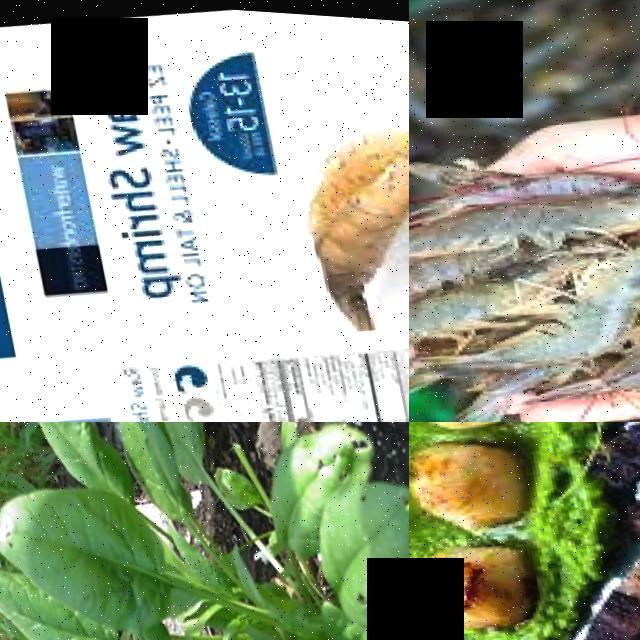sea scallops: (409, 427, 523, 531)
shrimp: (409, 166, 640, 282), (409, 234, 585, 378), (485, 226, 640, 374), (413, 149, 640, 223)
spinach: (7, 474, 166, 635), (312, 467, 409, 624), (256, 436, 326, 555), (11, 422, 124, 491), (155, 422, 214, 481), (48, 608, 114, 640)
